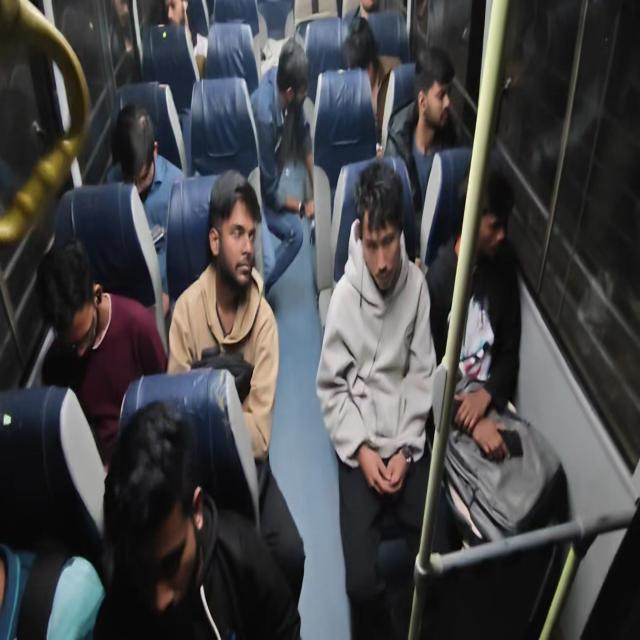person: (187, 192, 326, 350), (2, 245, 114, 393), (108, 410, 188, 599), (0, 435, 38, 640), (352, 180, 408, 312), (104, 108, 176, 210), (446, 192, 508, 282), (261, 49, 324, 129), (159, 0, 200, 66), (412, 63, 445, 132), (342, 30, 371, 91)
